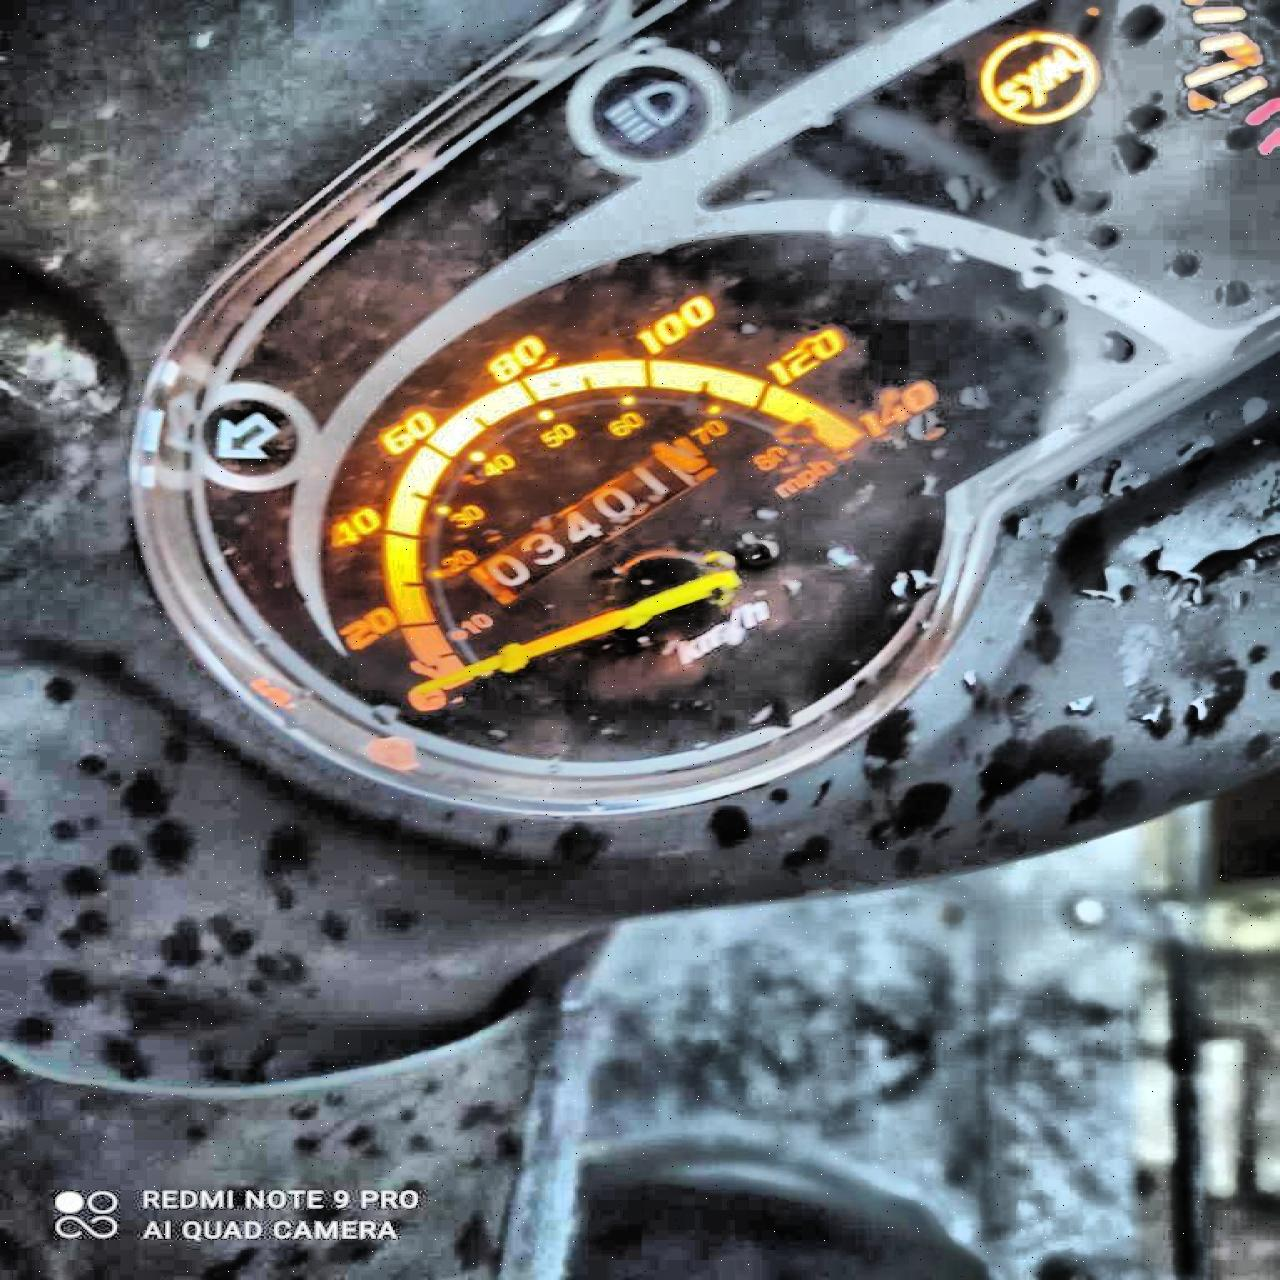0: (588, 483, 639, 518), (484, 552, 530, 586), (490, 450, 518, 469), (552, 421, 578, 438), (461, 502, 486, 519), (455, 547, 476, 565)
1: (629, 463, 670, 496)
3: (518, 533, 565, 565), (447, 511, 472, 529)
4: (561, 508, 606, 545), (479, 462, 504, 477)
5: (533, 429, 563, 448)
6: (605, 418, 632, 436)
7: (690, 425, 710, 445)
8: (670, 455, 719, 481)
odometer: (462, 427, 723, 602)
